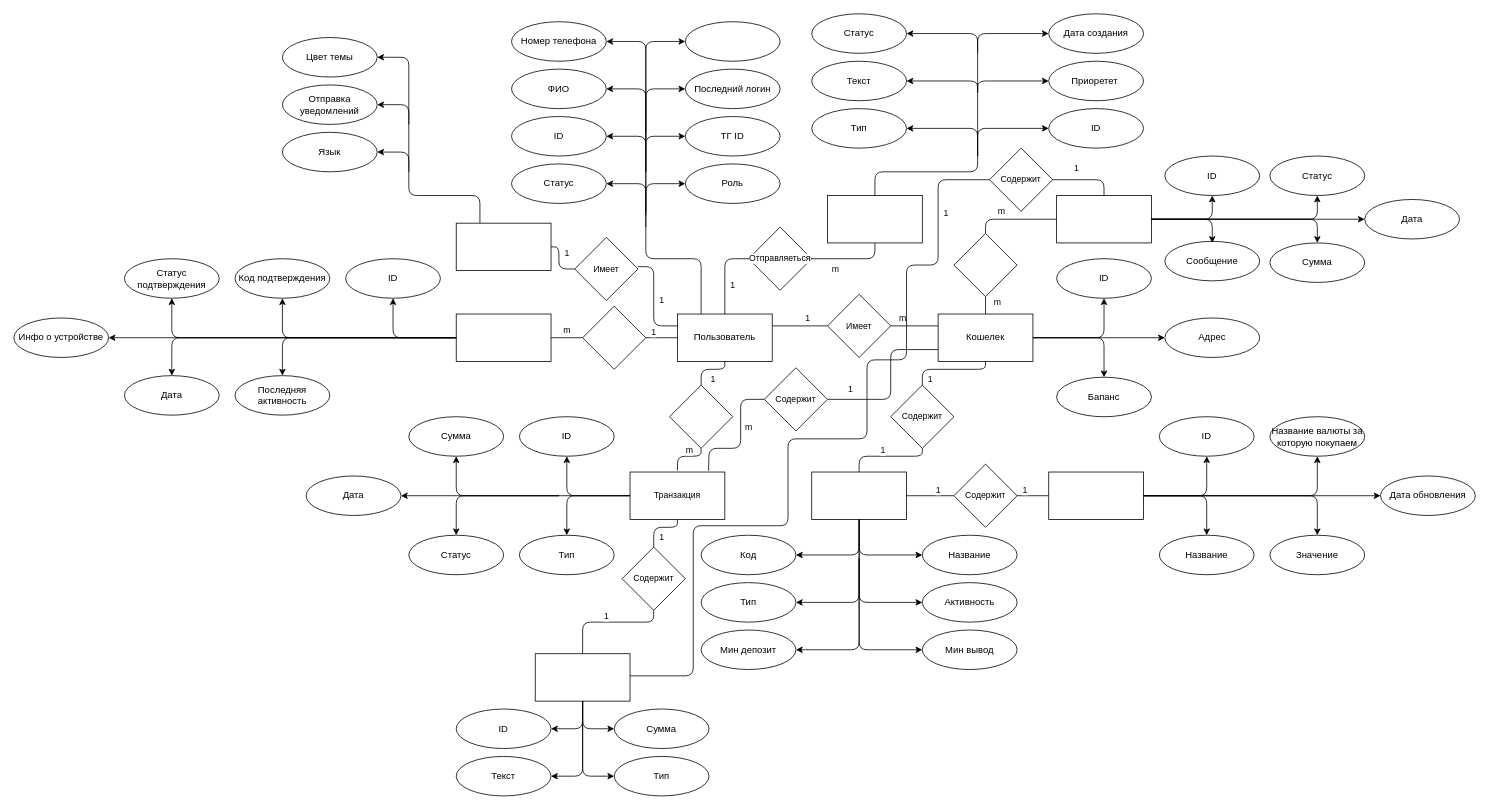
Some shapes in this 1489 by 810 pixel diagram are drawn without their labels. The centre of each missing label's shape, as x and y in pixels:
Валюта: (859,495)
Выполняеться: (985,265)
Дата регестрации: (732,41)
Комиссия: (582,677)
Курс валют: (1096,495)
Настройки: (503,246)
Переводы: (1103,219)
Сессия: (503,337)
Совершает: (701,416)
Создает: (614,337)
Уведомление: (874,219)
